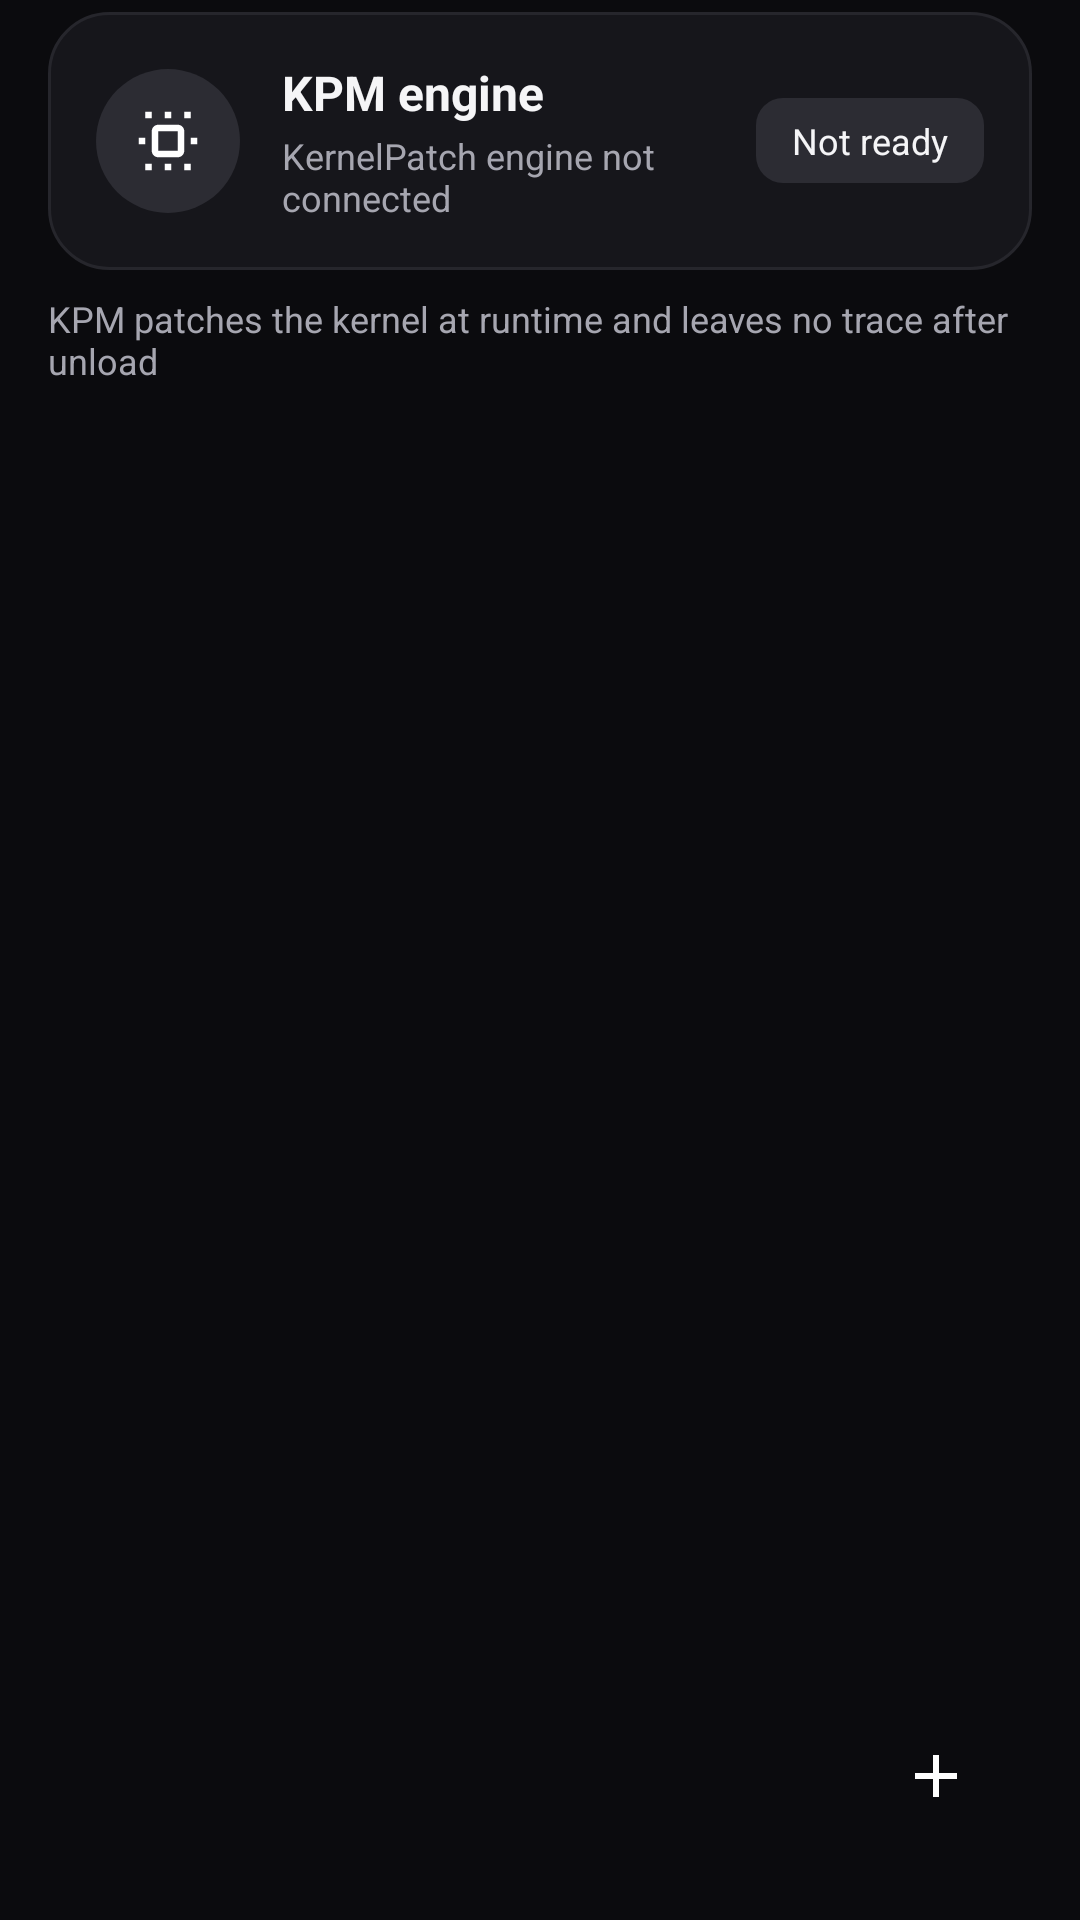

Where to tap for icons on this 1080px x 1920px app screen, as (x,y):
Install KPM: (936,1776)
